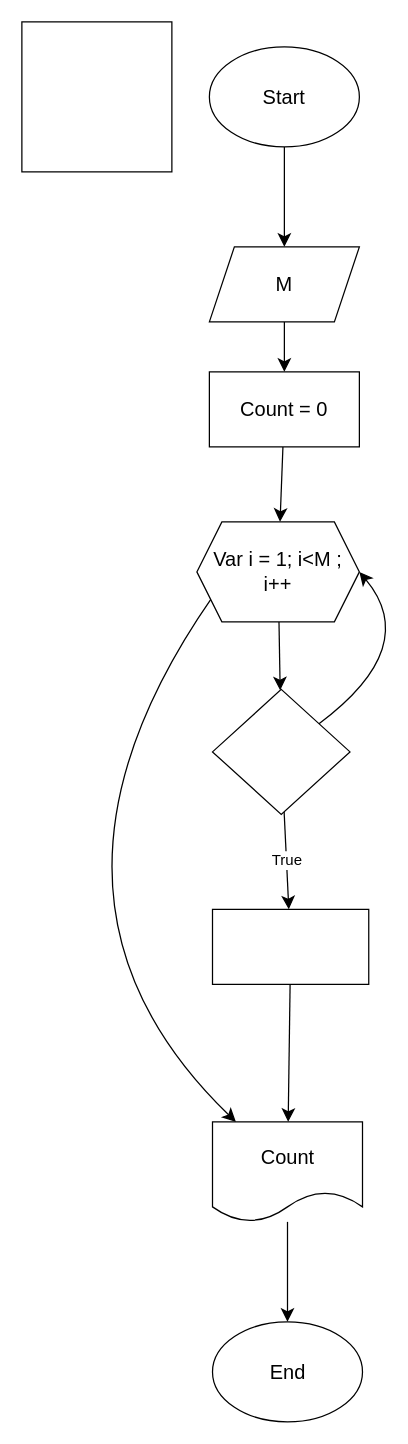
The diagram is 408 pixels wide and 1444 high, and some of its shapes have lost their labels. Here are the shapes that lost their labels. From the top down, the centre of each, then its label:
At [96,96]: "1'dən M'ə dək ədədlər içərisində 15ə bölünənlərin sayını tapan alqoritm".
At [280,751]: "İ%15==0".
At [290,946]: "Count++".
